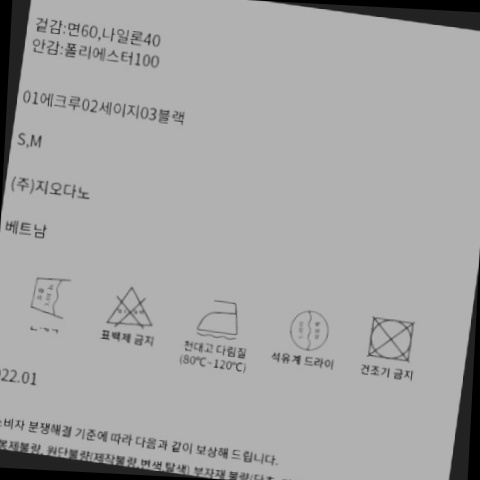30C: (26, 269, 78, 322)
DN_tumble_dry: (360, 313, 421, 364)
dry_clean_petrol_only: (285, 301, 341, 355)
iron: (191, 289, 247, 342)
non_chlorine_bleach: (103, 277, 164, 333)
